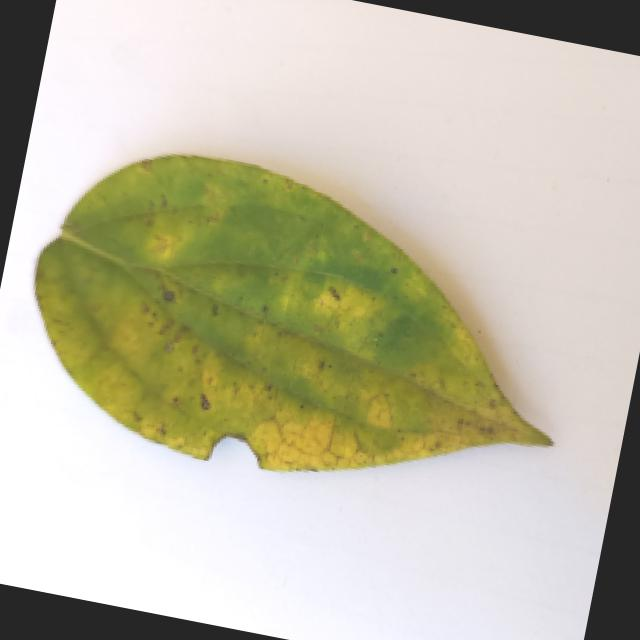slow-decline: (0, 118, 599, 523)
